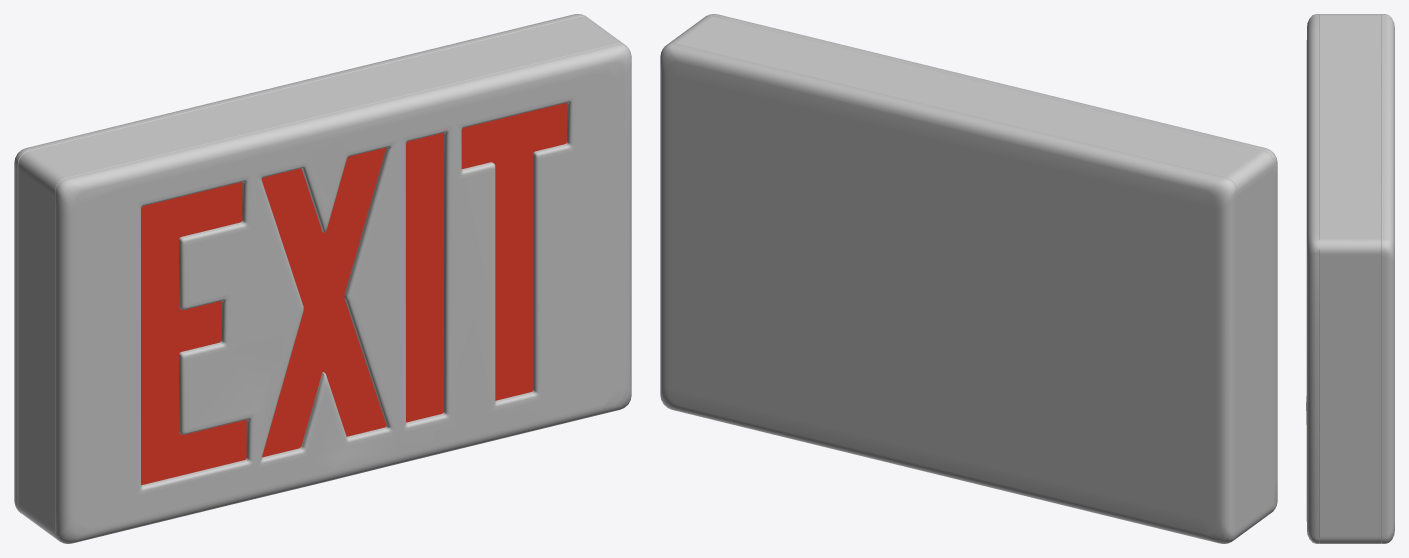
File: sign_exit.fbx
3 renders of one model, left to right at view 1: azimuth 30°, elevation 25°; view 2: azimuth 150°, elevation 25°; view 3: azimuth 270°, elevation 25°, orthographic. The views are drawn at different scales.
Visible parts, largest first — view 1: sign_exit; view 2: sign_exit; view 3: sign_exit.
Boxes of the visible parts, box(x1,y1,x2,y2) form: sign_exit: box(14, 14, 631, 543); sign_exit: box(660, 14, 1277, 543); sign_exit: box(1306, 14, 1394, 543).
Size of the model in its own units: 41.76 by 25.32 by 6.73.
